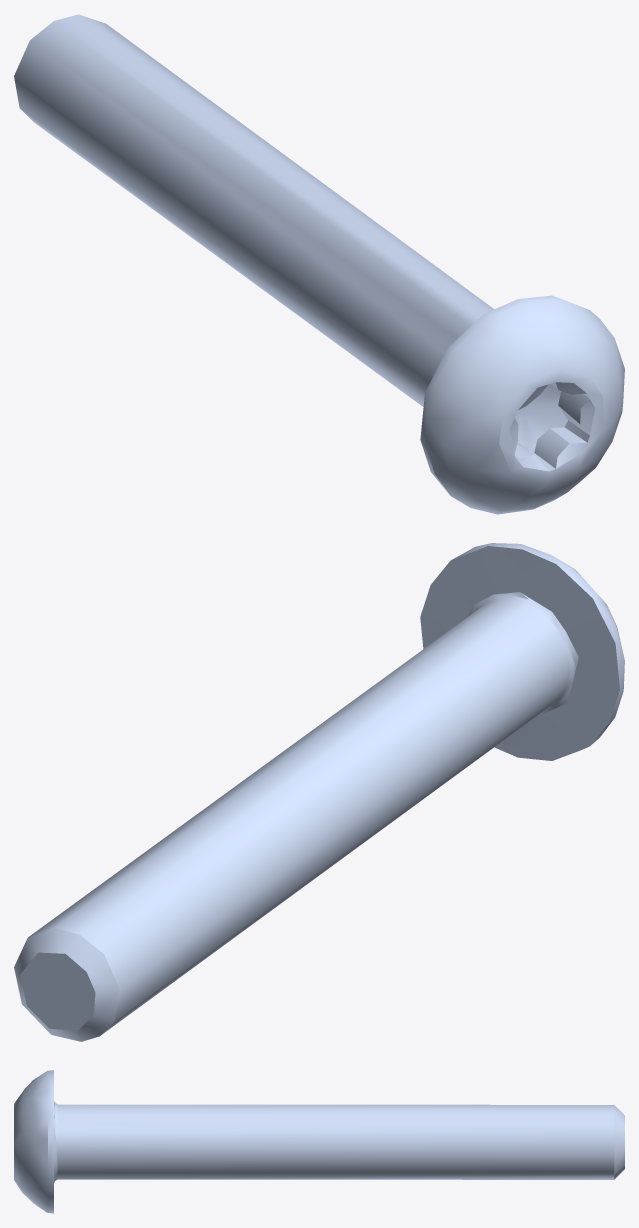
The model's file is _8-32_x_1_250_Star_Drive_Screw__276-4997_.glb.
The picture shows the model from 3 angles, top to bottom: view 1: azimuth 30°, elevation 25°; view 2: azimuth 150°, elevation 25°; view 3: azimuth 270°, elevation 25°; orthographic projection. The views are drawn at different scales.
Visible parts, largest first — view 1: #8-32 x 1.250 Star Drive Screw (276-4997); view 2: #8-32 x 1.250 Star Drive Screw (276-4997); view 3: #8-32 x 1.250 Star Drive Screw (276-4997).
Part boxes in pixels (bbox=[...]): #8-32 x 1.250 Star Drive Screw (276-4997): bbox=[14, 14, 624, 514]; #8-32 x 1.250 Star Drive Screw (276-4997): bbox=[14, 543, 624, 1041]; #8-32 x 1.250 Star Drive Screw (276-4997): bbox=[14, 1070, 624, 1213].
Bounding box in the file's own units: 0.3123 × 0.3131 × 1.34.
